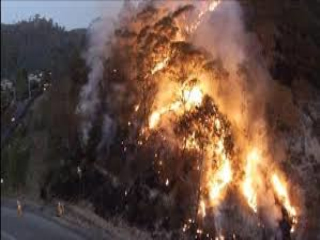fire: (191, 125, 300, 227), (149, 24, 248, 135)
smoke: (78, 11, 122, 156), (191, 5, 264, 88)
